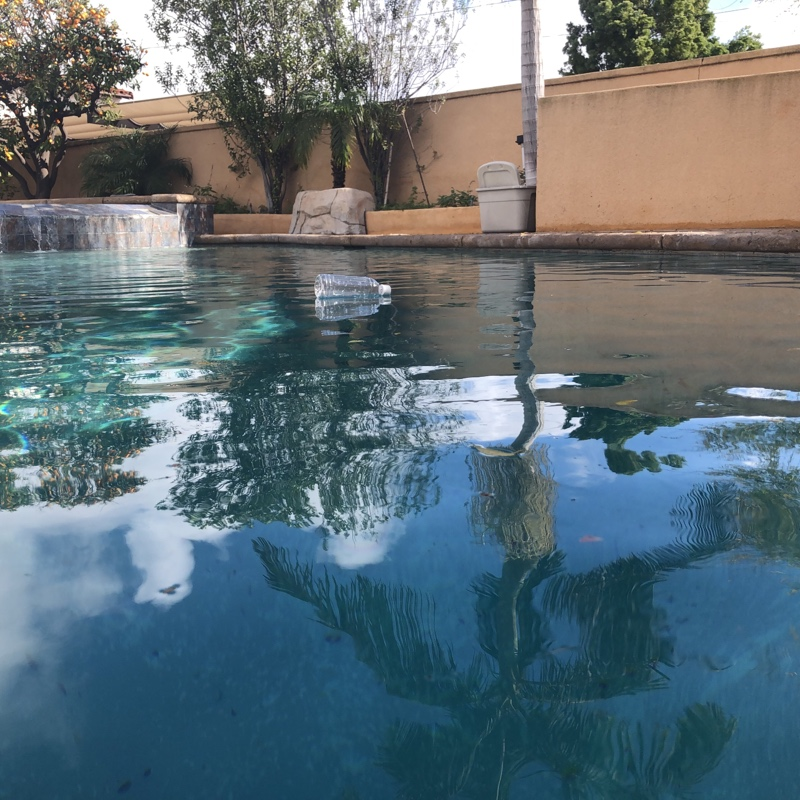Plastic Bottle: (312, 272, 394, 302)
